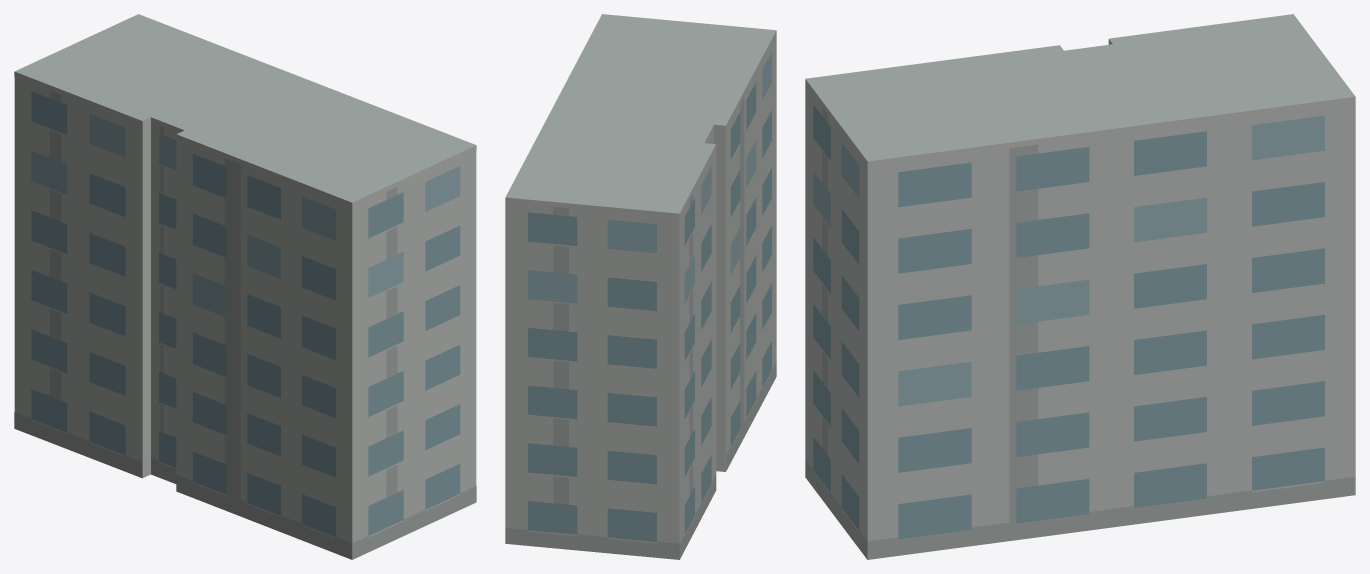
The model's file is survey-upis-32989842.glb.
3 renders of one model, left to right at view 1: azimuth 30°, elevation 25°; view 2: azimuth 150°, elevation 25°; view 3: azimuth 270°, elevation 25°, orthographic. The views are drawn at different scales.
Visible parts, largest first — view 1: survey-upis-32989842.tmp; view 2: survey-upis-32989842.tmp; view 3: survey-upis-32989842.tmp.
Boxes of the visible parts, x1=… form: survey-upis-32989842.tmp: x1=14, y1=14, x2=476, y2=559; survey-upis-32989842.tmp: x1=505, y1=14, x2=776, y2=559; survey-upis-32989842.tmp: x1=805, y1=14, x2=1355, y2=559.
Bounding box in the file's own units: 13.83 × 17.4 × 21.79.
